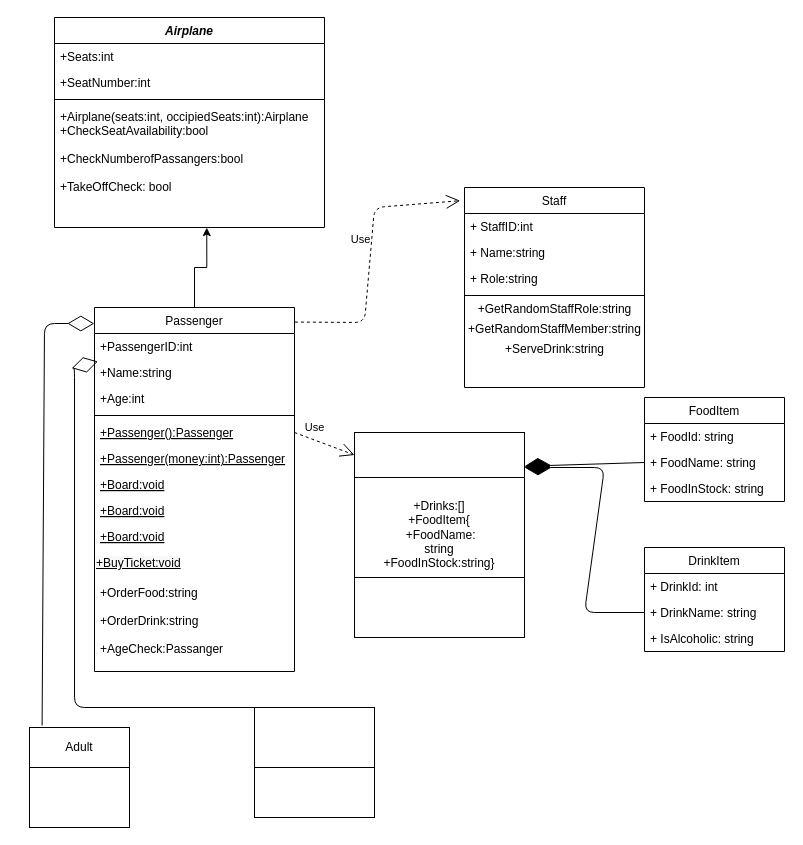
The diagram is 803 pixels wide and 845 high, and some of its shapes have lost their labels. The centre of each missing label's shape, as x and y in pixels:
+CheckAvailabilty:bool +FoodMenu:<List>FoodItem +DrinkMenu:<List>DrinkItem: the point at 439,607
Child: the point at 314,737
FoodCart: the point at 439,455
